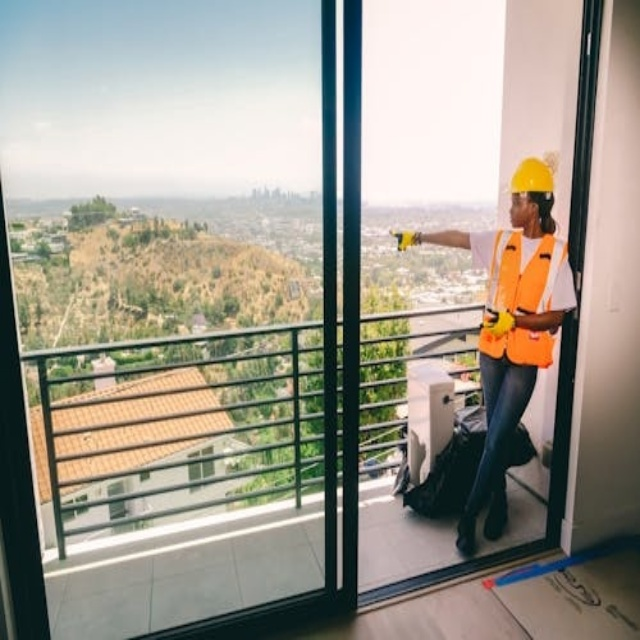Guantes: (484, 310, 516, 338), (392, 229, 421, 252)
